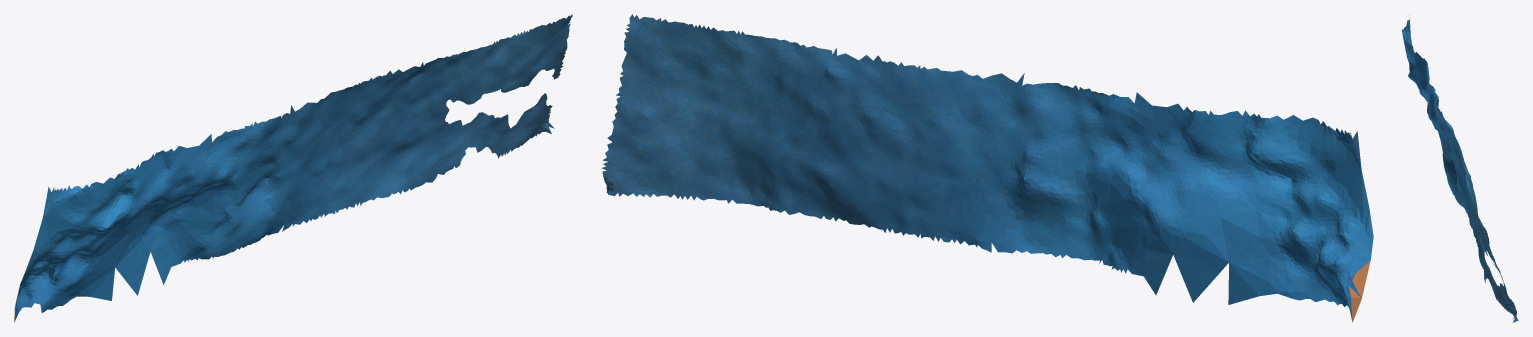
File: tile_0481.gltf
The picture shows the model from 3 angles, left to right: view 1: azimuth 30°, elevation 25°; view 2: azimuth 150°, elevation 25°; view 3: azimuth 270°, elevation 25°; orthographic projection. The views are drawn at different scales.
Visible parts, largest first — view 1: defaultobject; view 2: defaultobject; view 3: defaultobject.
Boxes of the visible parts, x1,y1,x2,y2 form: defaultobject: (14, 14, 572, 322); defaultobject: (601, 14, 1373, 322); defaultobject: (1402, 15, 1518, 322).
Size of the model in its own units: 1.79 by 0.4541 by 0.4129.
2 materials, 2 textured.
